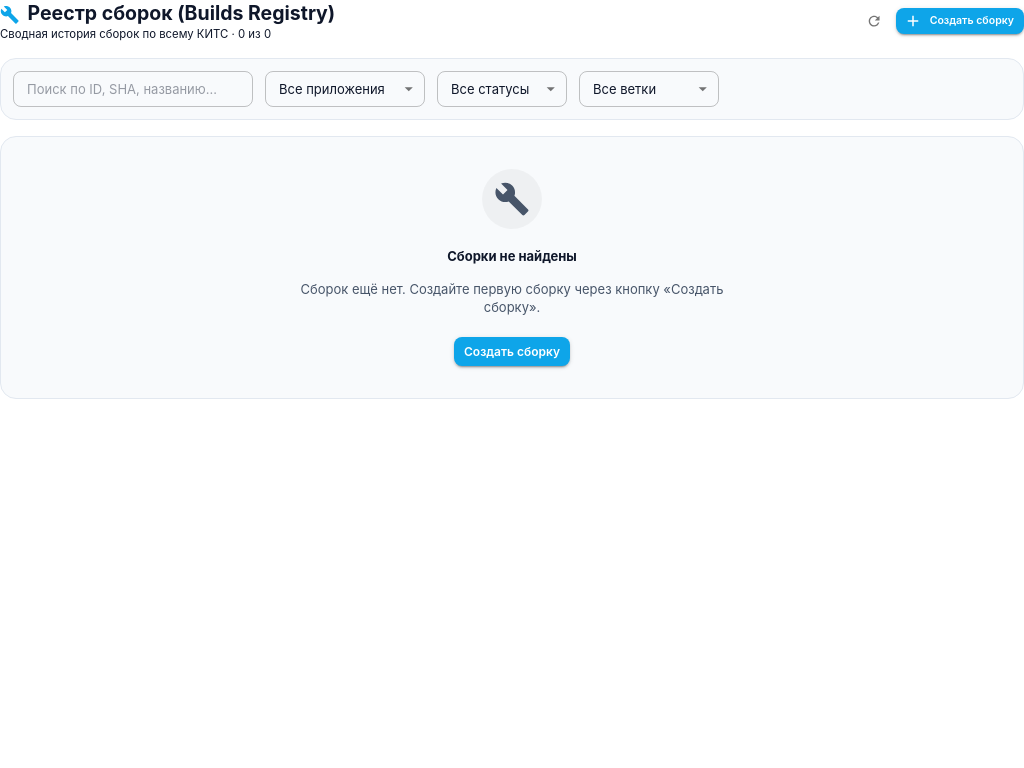
Test: COS-022: Control Station Core Views › SAN-005: BuildsRegistry — рендерит заголовок, фильтры и модалку создания сборки (честный EmptyState)
Check: the heading "Реестр сборок (Builds Registry)" is shown, box [0,0,335,26]
Check: the dropdown "Все статусы" is shown, box [451,81,529,97]
// Open create modal (click the header button)
Click the button "Создать сборку" in the row of "Реестр сборок (Builds Registry)" at (960, 21), box [896,8,1023,34]
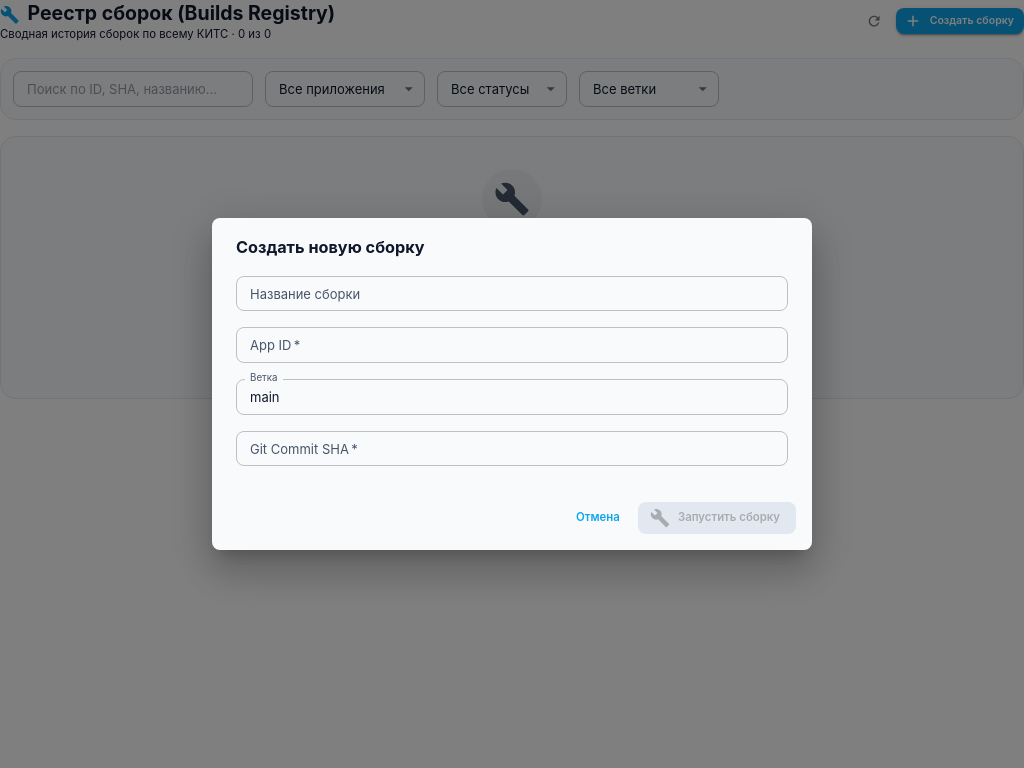
Check: the heading "Создать новую сборку" is shown, box [236,237,425,257]
Check: the button "Запустить сборку" is shown, box [638,502,796,534]
